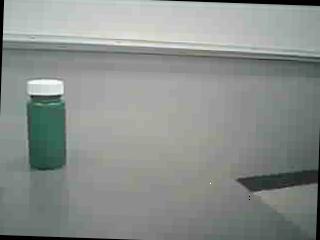Bottle C: (12, 72, 82, 184)
